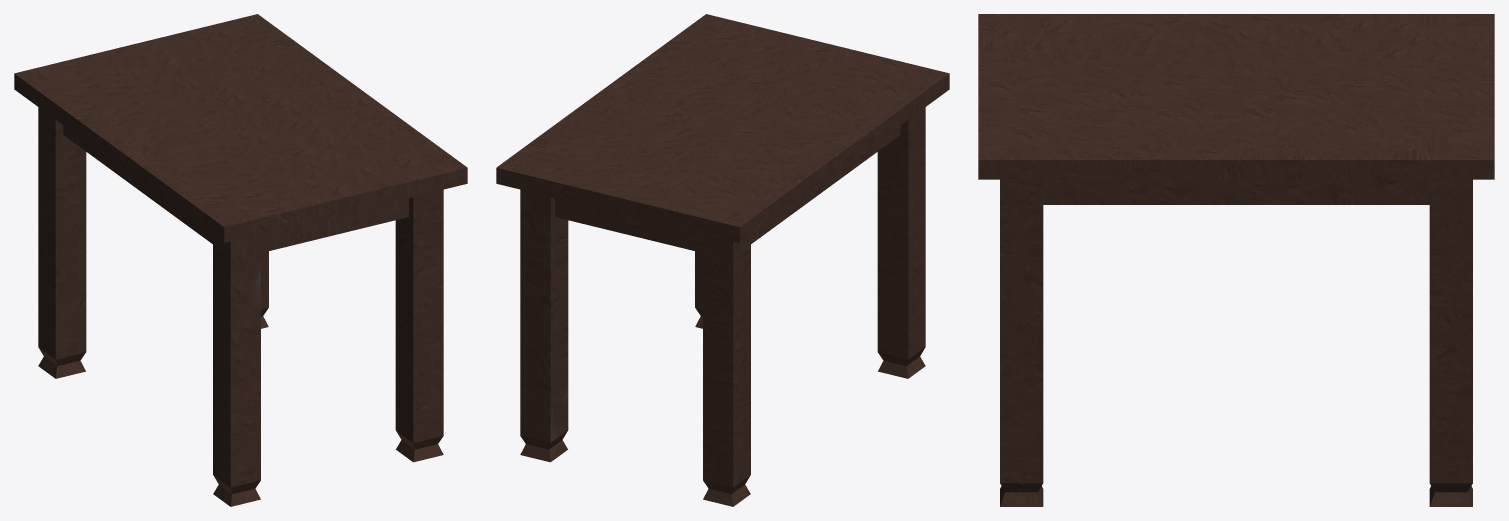
The model's file is Table(4chairs)Complete.fbx.
The picture shows the model from 3 angles, left to right: view 1: azimuth 30°, elevation 25°; view 2: azimuth 150°, elevation 25°; view 3: azimuth 270°, elevation 25°; orthographic projection. The views are drawn at different scales.
Parts seen in each view (by area): view 1: Table, Table.003, Table.002, Table.001; view 2: Table, Table.003; view 3: Table, Table.003, Table.002.
Part boxes in pixels (box(x1,y1,x2,y2)): Table: box(14, 14, 467, 494); Table.003: box(38, 316, 268, 378); Table.002: box(396, 440, 443, 462); Table.001: box(213, 485, 260, 506); Table: box(496, 14, 949, 494); Table.003: box(520, 440, 750, 506); Table: box(978, 14, 1494, 492); Table.003: box(1429, 486, 1472, 506); Table.002: box(1000, 486, 1042, 506).
Bounding box in the file's own units: 80 × 91 × 120.
1 material, 1 textured.
